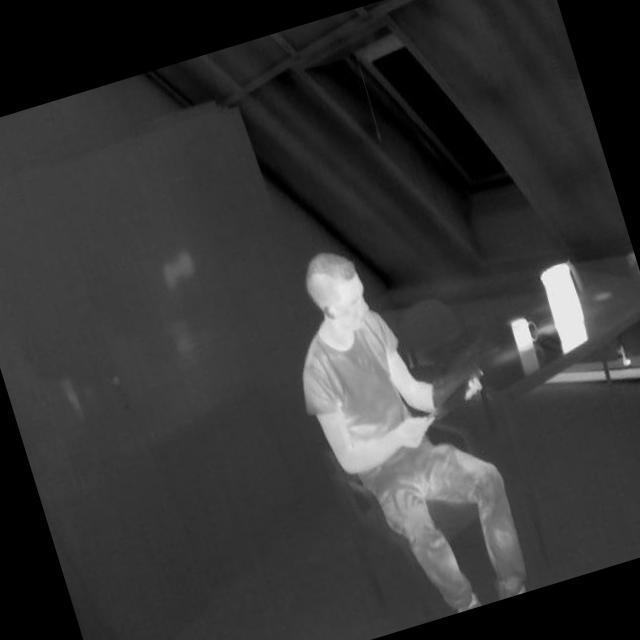person: (262, 214, 548, 638)
